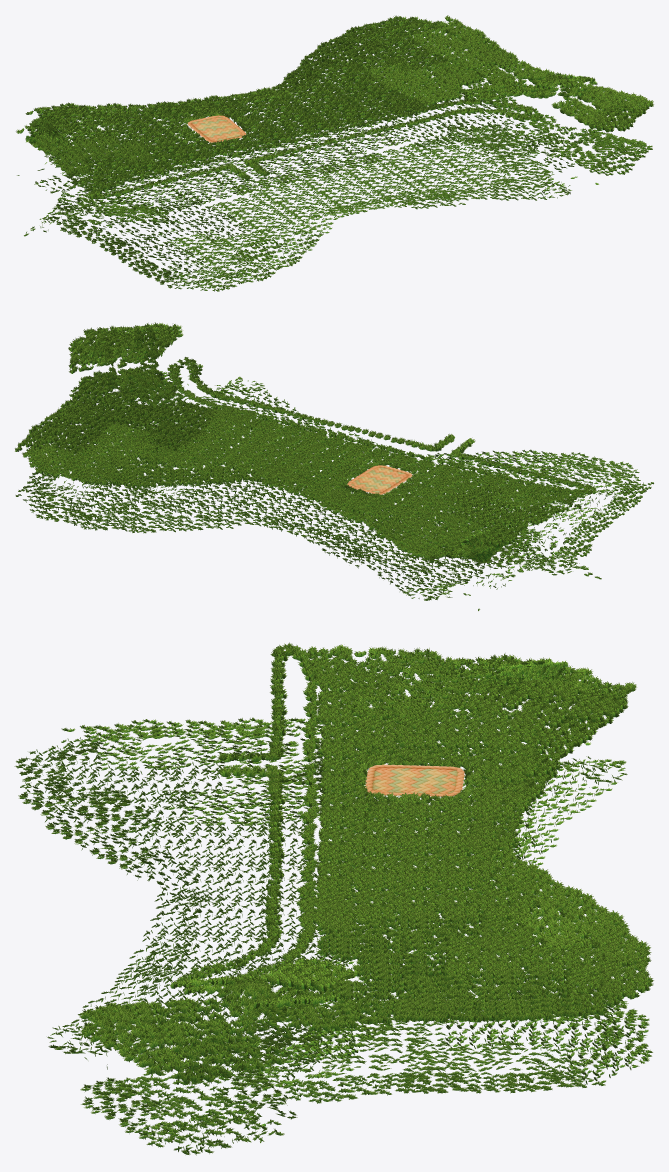
File: nuevo_pastito_barrio.glb
3 views of the same model, one above another, from view 1: azimuth 30°, elevation 25°; view 2: azimuth 150°, elevation 25°; view 3: azimuth 270°, elevation 25° (orthographic). The views are drawn at different scales.
Visible parts, largest first — view 1: pastito_void.003, pastito_void.002, pastito_void.001, pastito_void, pastito_barrio, pastito_barrio.087, pastito_barrio.159, alfombrabosq, pastito_barrio.155, pastito_barrio.152, pastito_barrio.057, pastito_barrio.153 (+61 smaller); view 2: pastito_void, pastito_void.003, pastito_void.001, pastito_barrio, pastito_barrio.087, pastito_barrio.071, pastito_void.002, alfombrabosq, pastito_barrio.157, pastito_barrio.068, pastito_barrio.037, pastito_barrio.027 (+72 smaller); view 3: pastito_void.002, pastito_void.001, pastito_void, pastito_barrio.087, pastito_void.003, pastito_barrio.159, pastito_barrio.156, pastito_barrio.067, alfombrabosq, pastito_barrio, pastito_barrio.069, pastito_barrio.153 (+88 smaller).
Part boxes in pixels (box(x1,y1,x2,y2)): pastito_void.003: box(33, 126, 598, 291); pastito_void.002: box(24, 126, 569, 290); pastito_void.001: box(51, 65, 652, 221); pastito_void: box(17, 64, 641, 220); pastito_barrio: box(84, 94, 541, 199); pastito_barrio.087: box(87, 95, 545, 199); pastito_barrio.159: box(457, 72, 587, 100); alfombrabosq: box(187, 115, 245, 142); pastito_barrio.155: box(589, 101, 649, 132); pastito_barrio.152: box(551, 96, 608, 125); pastito_barrio.057: box(325, 39, 386, 66); pastito_barrio.153: box(577, 84, 627, 110); pastito_void: box(15, 372, 551, 600); pastito_void.003: box(125, 376, 653, 579); pastito_void.001: box(20, 371, 554, 610); pastito_barrio: box(167, 357, 595, 497); pastito_barrio.087: box(170, 361, 596, 498); pastito_barrio.071: box(105, 326, 184, 419); pastito_void.002: box(115, 379, 643, 575); alfombrabosq: box(347, 465, 412, 494); pastito_barrio.157: box(82, 341, 149, 370); pastito_barrio.068: box(68, 327, 114, 373); pastito_barrio.037: box(398, 534, 450, 566); pastito_barrio.027: box(257, 466, 312, 497); pastito_void.002: box(14, 715, 429, 1090); pastito_void.001: box(89, 731, 652, 1155); pastito_void: box(80, 738, 607, 1153); pastito_barrio.087: box(181, 645, 372, 986); pastito_void.003: box(29, 710, 467, 1088); pastito_barrio.159: box(171, 957, 361, 1008); pastito_barrio.156: box(136, 1036, 285, 1084); pastito_barrio.067: box(78, 1002, 170, 1067); alfombrabosq: box(365, 764, 464, 796); pastito_barrio: box(176, 642, 359, 987); pastito_barrio.069: box(217, 975, 292, 1046); pastito_barrio.153: box(151, 1020, 282, 1056).
Size of the model in its own units: 349 by 44.64 by 208.
2 materials, 2 textured.
